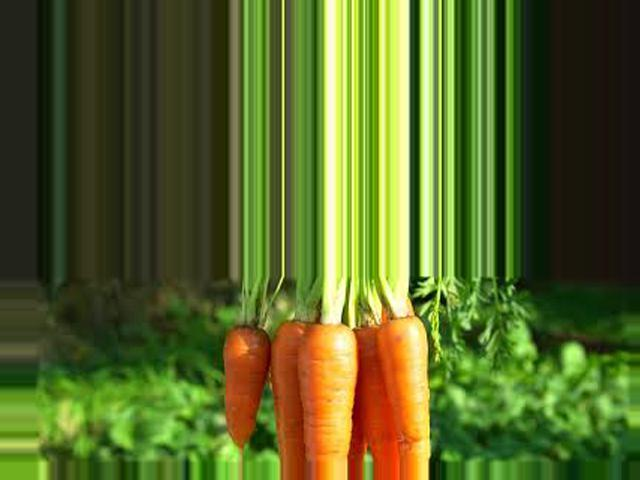carrot: (211, 320, 274, 464)
